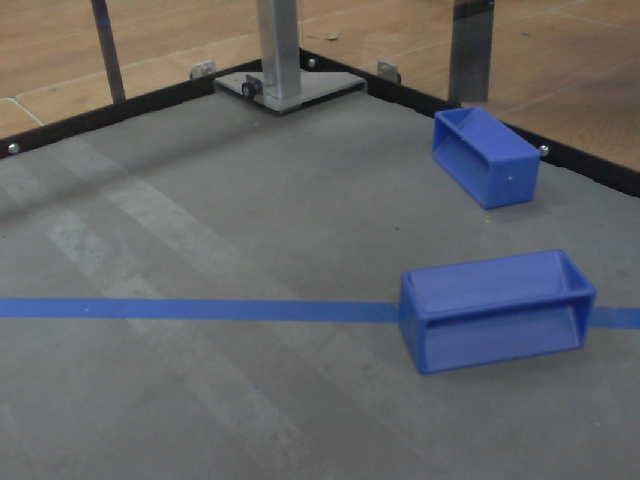BlueSample: (395, 245, 598, 378), (427, 102, 542, 214)
